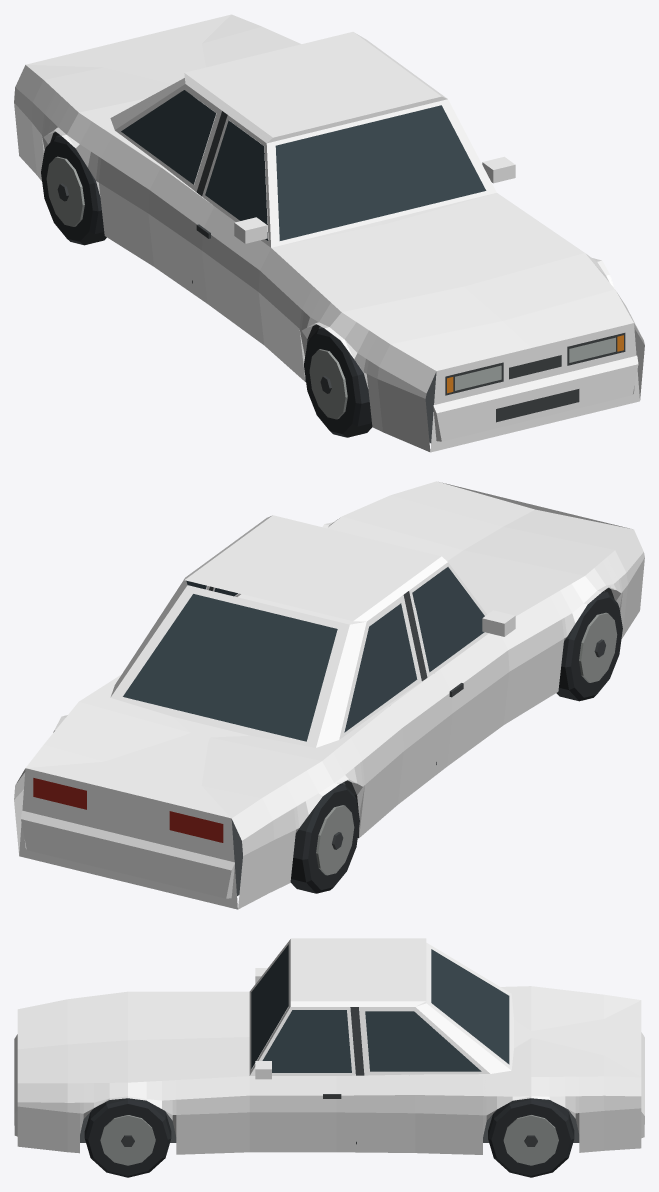
File: hayase_nadeshiko.glb
The picture shows the model from 3 angles, top to bottom: view 1: azimuth 30°, elevation 25°; view 2: azimuth 150°, elevation 25°; view 3: azimuth 270°, elevation 25°; orthographic projection. The views are drawn at different scales.
Parts seen in each view (by area): view 1: hayase_nadeshiko; view 2: hayase_nadeshiko; view 3: hayase_nadeshiko.
Part boxes in pixels (left/top/right/bottom): hayase_nadeshiko: left=14, top=14, right=644, bottom=452; hayase_nadeshiko: left=14, top=481, right=644, bottom=909; hayase_nadeshiko: left=14, top=938, right=644, bottom=1177.
Bounding box in the file's own units: 1.75 × 1.25 × 4.49.
8 materials, 1 textured.
